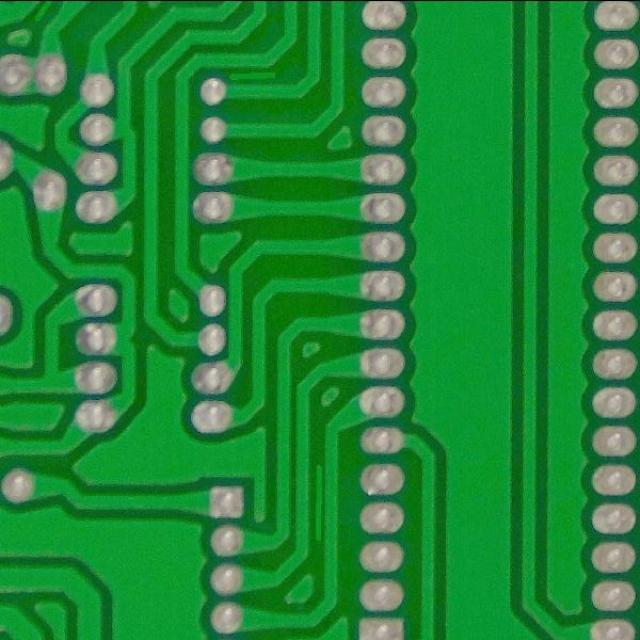Spurious_Cooper: (310, 460, 328, 546), (23, 0, 74, 29), (225, 67, 282, 82)
